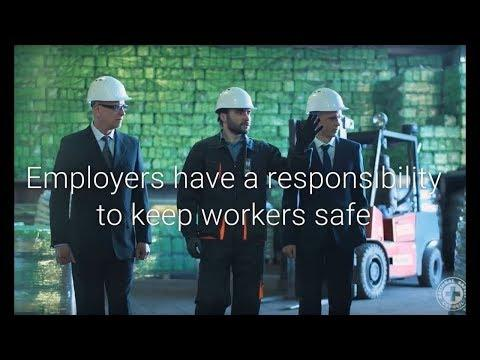helmet: (90, 77, 132, 107), (307, 88, 350, 114), (215, 88, 256, 113)
